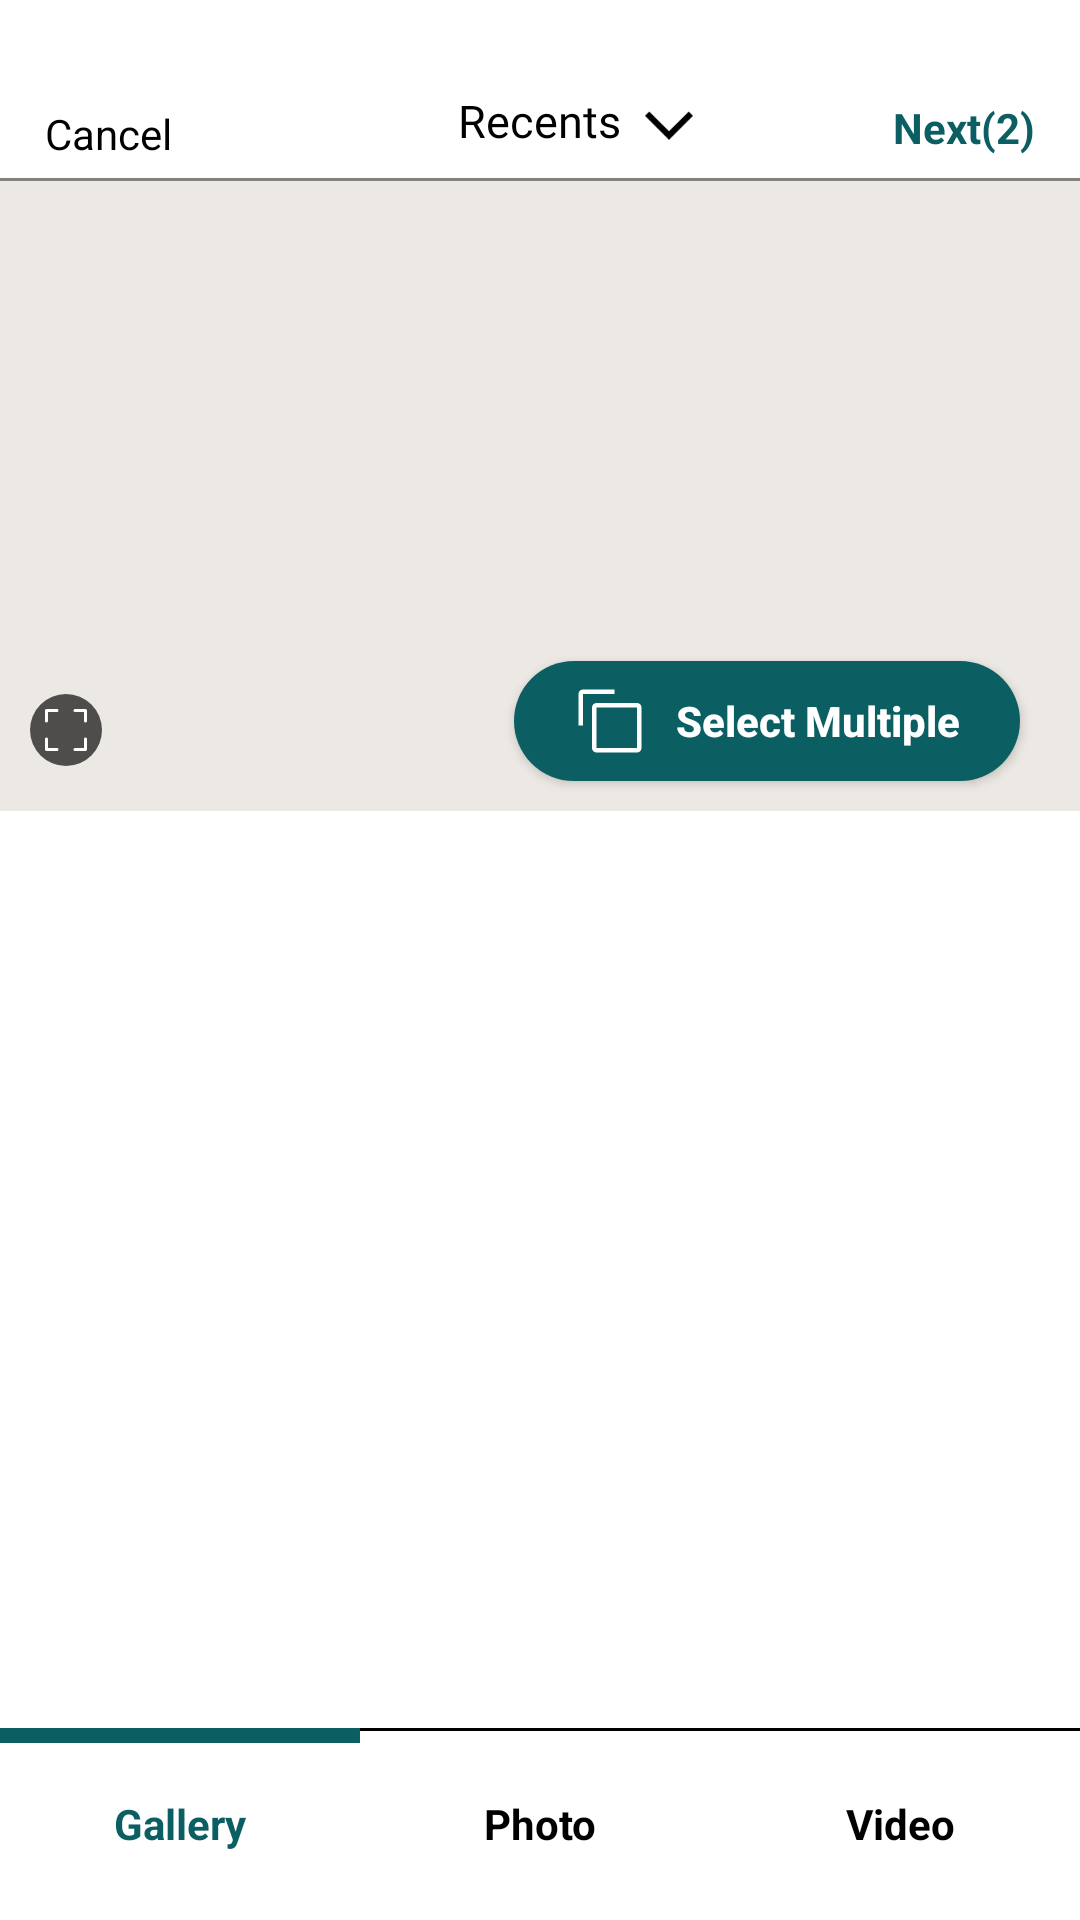

Locate icon controls on the screen. Image size 1080px x 1920px, boxes as (x1, y1, x2, y2).
scan: (30, 694, 102, 766)
